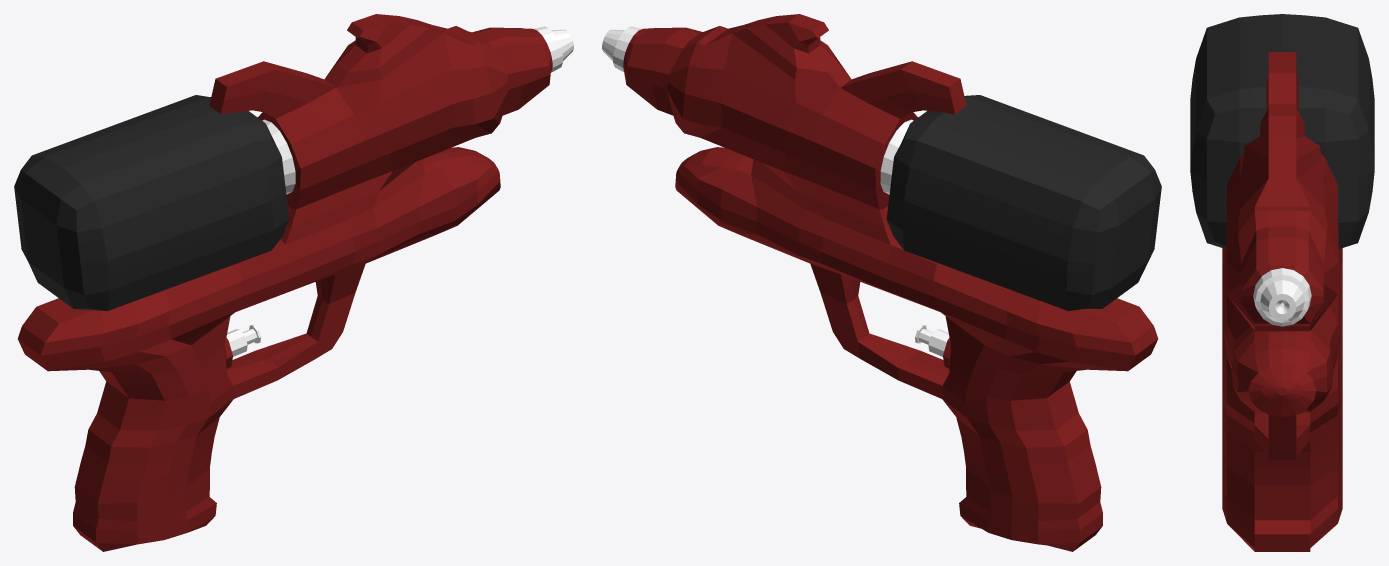
The model's file is Pistol.fbx.
The picture shows the model from 3 angles, left to right: view 1: azimuth 30°, elevation 25°; view 2: azimuth 150°, elevation 25°; view 3: azimuth 270°, elevation 25°; orthographic projection. The views are drawn at different scales.
Visible parts, largest first — view 1: pistol1, pCube1; view 2: pistol1, pCube1; view 3: pistol1, pCube1.
Part boxes in pixels (<box>): pistol1: <box>17,14,573,551</box>; pCube1: <box>14,95,289,311</box>; pistol1: <box>602,14,1158,551</box>; pCube1: <box>886,95,1161,311</box>; pistol1: <box>1222,52,1342,551</box>; pCube1: <box>1190,14,1374,248</box>.
Bounding box in the file's own units: 16.95 × 13.63 × 4.16.
